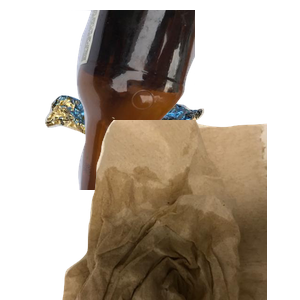glass: (60, 10, 300, 190)
metal: (42, 72, 239, 229)
plastic: (88, 182, 242, 300)
trash: (60, 120, 300, 300)
